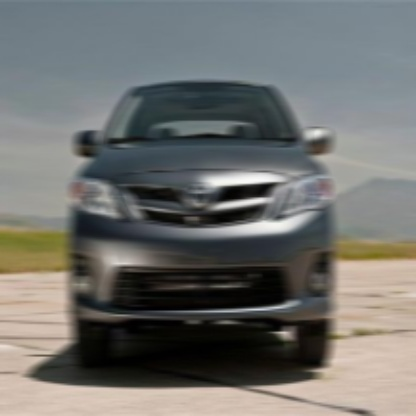Vehicle: (67, 77, 336, 372)
